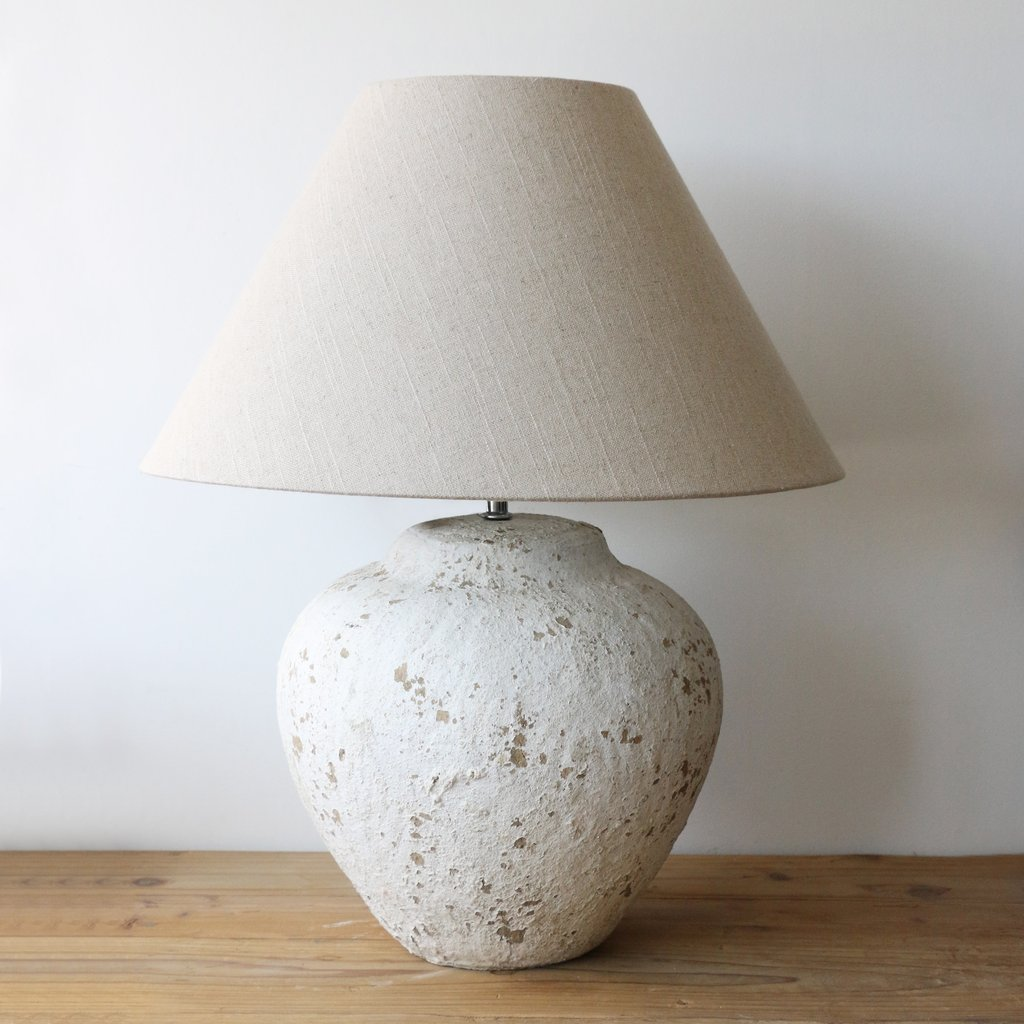lampu: (140, 71, 852, 972)
